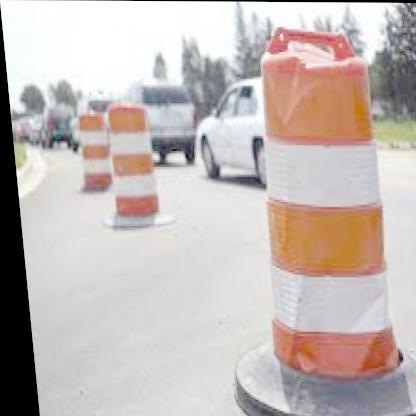obstacle: (234, 35, 396, 379)
